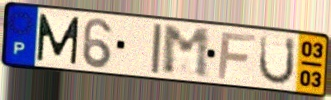6: (80, 16, 114, 71)
F: (216, 31, 258, 81)
I: (149, 22, 164, 76)
M: (161, 25, 211, 81), (35, 12, 82, 66)
U: (256, 33, 297, 87)
